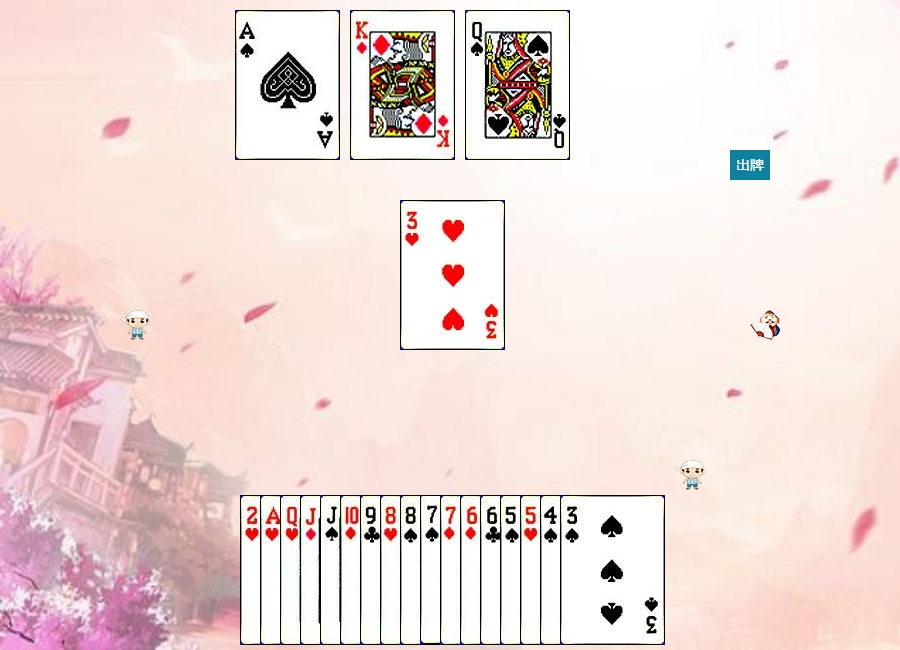10~1: (340, 495, 445, 645)
11~1: (300, 495, 405, 645)
11~4: (320, 495, 425, 645)
12~3: (280, 495, 385, 645)
12~4: (465, 10, 570, 160)
13~1: (350, 10, 455, 160)
14~3: (260, 495, 365, 645)
14~4: (235, 10, 340, 160)
15~3: (240, 495, 345, 645)
3~3: (400, 200, 505, 350)
3~4: (560, 495, 665, 645)
4~4: (540, 495, 645, 645)
5~3: (520, 495, 625, 645)
5~4: (500, 495, 605, 645)
6~1: (460, 495, 565, 645)
6~2: (480, 495, 585, 645)
7~1: (440, 495, 545, 645)
7~4: (420, 495, 525, 645)
8~3: (380, 495, 485, 645)
8~4: (400, 495, 505, 645)
9~2: (360, 495, 465, 645)
